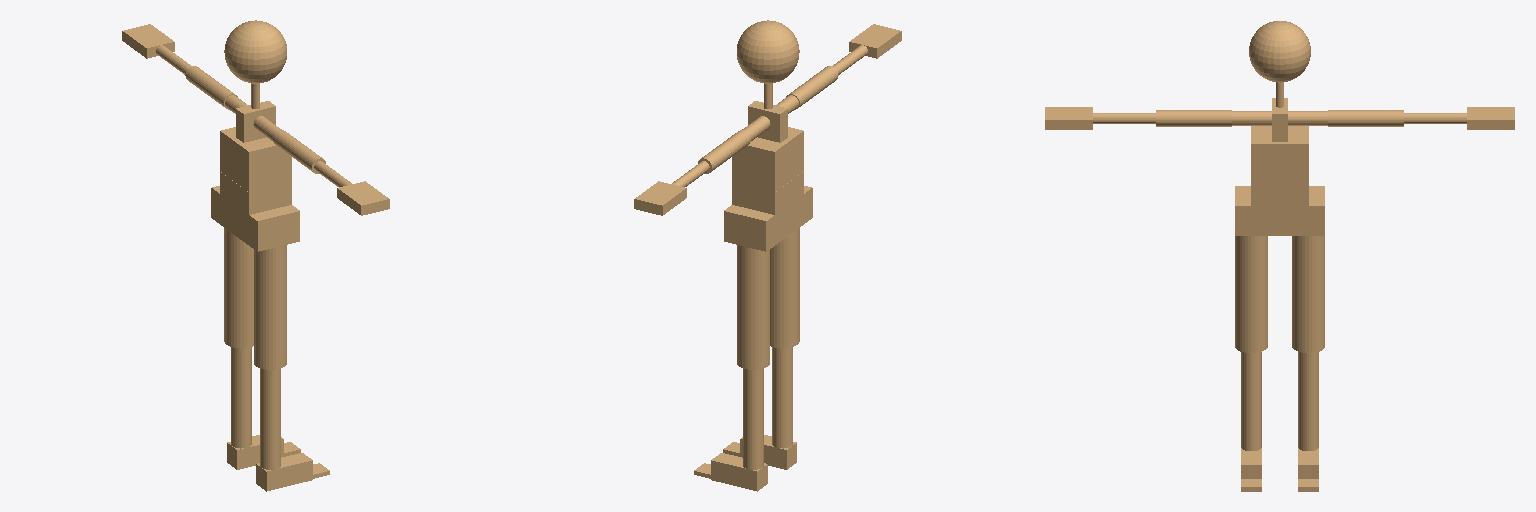
--- What the picture shows (computed from the rendered views, not written in the file) ---
3 views of the same robot in one strip: view 1: azimuth 30°, elevation 25°; view 2: azimuth 150°, elevation 25°; view 3: azimuth 270°, elevation 25° (orthographic).
Robot: XSensStyleModel_template — 49 links, 48 joints (48 revolute); root link Pelvis; default pose: all joints at 0.
Links seen in each view (by area): view 1: RightUpperLeg, LeftUpperLeg, Head, Pelvis, RightLowerLeg, LeftLowerLeg, T12, L5, L3, RightFoot, RightHand, LeftHand (+4 smaller); view 2: LeftUpperLeg, RightUpperLeg, Head, Pelvis, LeftLowerLeg, RightLowerLeg, T12, L5, L3, LeftFoot, LeftHand, RightHand (+4 smaller); view 3: RightUpperLeg, LeftUpperLeg, Pelvis, Head, RightLowerLeg, LeftLowerLeg, T12, RightUpperArm, LeftUpperArm, L5, L3, RightHand (+8 smaller).
Link boxes in pixels (bbox=[...]): RightUpperLeg: bbox=[254, 245, 286, 369]; LeftUpperLeg: bbox=[224, 228, 253, 348]; Head: bbox=[224, 20, 286, 83]; Pelvis: bbox=[211, 186, 299, 251]; RightLowerLeg: bbox=[260, 369, 280, 469]; LeftLowerLeg: bbox=[231, 347, 251, 448]; T12: bbox=[220, 127, 291, 171]; L5: bbox=[220, 172, 291, 214]; L3: bbox=[220, 151, 291, 192]; RightFoot: bbox=[256, 453, 312, 491]; RightHand: bbox=[337, 181, 389, 215]; LeftHand: bbox=[122, 24, 174, 58]; LeftUpperLeg: bbox=[737, 245, 769, 369]; RightUpperLeg: bbox=[770, 228, 799, 348]; Head: bbox=[737, 20, 799, 83]; Pelvis: bbox=[724, 186, 812, 251]; LeftLowerLeg: bbox=[743, 369, 763, 469]; RightLowerLeg: bbox=[772, 347, 792, 448]; T12: bbox=[732, 127, 803, 171]; L5: bbox=[732, 172, 803, 214]; L3: bbox=[732, 151, 803, 192]; LeftFoot: bbox=[711, 453, 767, 491]; LeftHand: bbox=[634, 181, 686, 215]; RightHand: bbox=[849, 24, 901, 58]; RightUpperLeg: bbox=[1235, 236, 1267, 352]; LeftUpperLeg: bbox=[1292, 236, 1324, 352]; Pelvis: bbox=[1235, 186, 1324, 235]; Head: bbox=[1249, 21, 1310, 82]; RightLowerLeg: bbox=[1241, 352, 1261, 450]; LeftLowerLeg: bbox=[1298, 352, 1318, 450]; T12: bbox=[1251, 126, 1308, 163]; RightUpperArm: bbox=[1156, 110, 1231, 126]; LeftUpperArm: bbox=[1328, 110, 1403, 126]; L5: bbox=[1251, 184, 1308, 205]; L3: bbox=[1251, 164, 1308, 183]; RightHand: bbox=[1045, 107, 1092, 129].
Bounding box of the posed robot: 0.3344 × 1.69 × 1.77 m (x, y, z).
Geometry: primitives only (box / cylinder / sphere), no mesh files.

The robot description file, URDF, robot "XSensStyleModel_template":
<?xml version="1.0" encoding="utf-8"?>

<!--URDF MODEL 48 DoFs-->

<robot name="XSensStyleModel_template">

<material name="color">
    <color rgba="0.87 0.72 0.53 1"/>
</material>

<!--To open this model with Gazebo replace the null masses, inertias and dimensions of the 'fake links f1 and f2'-->
    <!--LINKS-->
	<!--Link base (1)-->
	<link name="Pelvis">
        <inertial>
            <mass value="6.352"/>
			<!--COM origin wrt pHipOrigin-->
            <origin xyz="0           0    0.062435" rpy="0 0 0" />
            <inertia ixx="0.064101" iyy="0.023834" izz="0.07276" ixy="0" ixz="0" iyz="0"/>
        </inertial>

        <visual>
			<!--box origin wrt pHipOrigin-->
            <origin xyz="0           0    0.062435" rpy="0 0 0" />
            <geometry>
                <box size="0.17519     0.32675     0.11973"/>
            </geometry>
            <material name="color"/>
        </visual>

        <collision>
			<!--box origin wrt pHipOrigin-->
            <origin xyz="0           0    0.062435" rpy="0 0 0" />
            <geometry>
                <box size="0.17519     0.32675     0.11973"/>
            </geometry>
        </collision>

    </link>
    <!--Chain from (2) to (7)-->
	<link name="L5_f1">
        <inertial>
            <mass value="0"/>
            <origin xyz="0 0 0" rpy="0 0 0" />
            <inertia ixx="0" iyy="0" izz="0" ixy="0" ixz="0" iyz="0"/>
        </inertial>
    </link>
	<link name="L5">
        <inertial>
            <mass value="8.0988"/>
			<!--COM origin wrt jL5S1-->
            <origin xyz="0           0    0.043965" rpy="0 0 0" />
            <inertia ixx="0.034135" iyy="0.025932" izz="0.049631" ixy="0" ixz="0" iyz="0"/>
        </inertial>

        <visual>
			<!--box origin origin wrt jL5S1-->
            <origin xyz="0           0    0.043965" rpy="0 0 0" />
            <geometry>
                <box size="0.17519     0.20699     0.08793"/>
            </geometry>
            <material name="color"/>
        </visual>

        <collision>
			<!--box origin origin wrt jL5S1-->
            <origin xyz="0           0    0.043965" rpy="0 0 0" />
            <geometry>
                <box size="0.17519     0.20699     0.08793"/>
            </geometry>
        </collision>
    </link>
	<link name="L3_f1">
        <inertial>
            <mass value="0"/>
            <origin xyz="0 0 0" rpy="0 0 0" />
            <inertia ixx="0" iyy="0" izz="0" ixy="0" ixz="0" iyz="0"/>
        </inertial>
    </link>
	<link name="L3">
        <inertial>
            <mass value="8.0988"/>
			<!--COM origin wrt jL4L3-->
            <origin xyz="0           0    0.039709" rpy="0 0 0" />
            <inertia ixx="0.033174" iyy="0.024971" izz="0.049631" ixy="0" ixz="0" iyz="0"/>
        </inertial>

        <visual>
			<!--box origin origin wrt jL4L3-->
            <origin xyz="0           0    0.039709" rpy="0 0 0" />
            <geometry>
                <box size="0.17519     0.20699    0.079417"/>
            </geometry>
            <material name="color"/>
        </visual>

        <collision>
			<!--box origin origin wrt jL4L3-->
            <origin xyz="0           0    0.039709" rpy="0 0 0" />
            <geometry>
                <box size="0.17519     0.20699    0.079417"/>
            </geometry>
        </collision>
    </link>
	<link name="T12_f1">
        <inertial>
            <mass value="0"/>
            <origin xyz="0 0 0" rpy="0 0 0" />
            <inertia ixx="0" iyy="0" izz="0" ixy="0" ixz="0" iyz="0"/>
        </inertial>
    </link>
	<link name="T12">
        <inertial>
            <mass value="8.0988"/>
			<!--COM origin wrt jL1T12-->
            <origin xyz="0           0    0.039709" rpy="0 0 0" />
            <inertia ixx="0.033174" iyy="0.024971" izz="0.049631" ixy="0" ixz="0" iyz="0"/>
        </inertial>

        <visual>
			<!--box origin origin wrt jL1T12-->
            <origin xyz="0           0    0.039709" rpy="0 0 0" />
            <geometry>
                <box size="0.17519     0.20699    0.079417"/>
            </geometry>
            <material name="color"/>
        </visual>

        <collision>
			<!--box origin origin wrt jL1T12-->
            <origin xyz="0           0    0.039709" rpy="0 0 0" />
            <geometry>
                <box size="0.17519     0.20699    0.079417"/>
            </geometry>
        </collision>
    </link>
	<link name="T8_f1">
        <inertial>
            <mass value="0"/>
            <origin xyz="0 0 0" rpy="0 0 0" />
            <inertia ixx="0" iyy="0" izz="0" ixy="0" ixz="0" iyz="0"/>
        </inertial>
    </link>
	<link name="T8_f2">
        <inertial>
            <mass value="0"/>
            <origin xyz="0 0 0" rpy="0 0 0" />
            <inertia ixx="0" iyy="0" izz="0" ixy="0" ixz="0" iyz="0"/>
        </inertial>
    </link>
	<link name="T8">
        <inertial>
            <mass value="3.176"/>
			<!--COM origin wrt jT9T8-->
            <origin xyz="0           0    0.056134" rpy="0 0 0" />
            <inertia ixx="0.0041415" iyy="0.0080363" izz="0.0055061" ixy="0" ixz="0" iyz="0"/>
        </inertial>

        <visual>
			<!--box origin wrt jT9T8-->
            <origin xyz="0           0    0.056134" rpy="0 0 0" />
            <geometry>
                <box size="0.13327    0.055172     0.11227"/>
            </geometry>
            <material name="color"/>
        </visual>

        <collision>
			<!--box origin wrt jT9T8-->
            <origin xyz="0           0    0.056134" rpy="0 0 0" />
            <geometry>
                <box size="0.13327    0.055172     0.11227"/>
            </geometry>
        </collision>

    </link>
	<link name="Neck_f1">
        <inertial>
            <mass value="0"/>
            <origin xyz="0 0 0" rpy="0 0 0" />
            <inertia ixx="0" iyy="0" izz="0" ixy="0" ixz="0" iyz="0"/>
        </inertial>
    </link>
	<link name="Neck_f2">
        <inertial>
            <mass value="0"/>
            <origin xyz="0 0 0" rpy="0 0 0" />
            <inertia ixx="0" iyy="0" izz="0" ixy="0" ixz="0" iyz="0"/>
        </inertial>
    </link>
	<link name="Neck">
        <inertial>
            <mass value="0.9528"/>
			<!--COM origin wrt jT1C7-->
            <origin xyz="0           0    0.052133" rpy="0 0 0" />
            <inertia ixx="0.0011087" iyy="0.0011087" izz="0.00049098" ixy="0" ixz="0" iyz="0"/>
        </inertial>

        <visual>
			<!--box origin wrt jT1C7-->
            <origin xyz="0           0    0.052133" rpy="0 0 0" />
            <geometry>
		<cylinder length="0.10427" radius="0.016051"/>
            </geometry>
            <material name="color"/>
        </visual>

        <collision>
			<!--box origin wrt jT1C7-->
            <origin xyz="0           0    0.052133" rpy="0 0 0" />
            <geometry>
                <cylinder length="0.10427" radius="0.016051"/>
            </geometry>
        </collision>
    </link>
	<link name="Head_f1">
        <inertial>
            <mass value="0"/>
            <origin xyz="0 0 0" rpy="0 0 0" />
            <inertia ixx="0" iyy="0" izz="0" ixy="0" ixz="0" iyz="0"/>
        </inertial>
    </link>
	<link name="Head">
        <inertial>
            <mass value="0.8584"/>
			<!--COM origin wrt jC1Head-->
            <origin xyz="0           0     0.11223" rpy="0 0 0" />
            <inertia ixx="0.0144" iyy="0.0144" izz="0.0144" ixy="0" ixz="0" iyz="0"/>
        </inertial>

        <visual>
			<!--boc origin wrt jC1Head-->
            <origin xyz="0           0     0.11223" rpy="0 0 0" />
            <geometry>
                <sphere radius="0.11223"/>
            </geometry>
            <material name="color"/>
        </visual>

        <collision>
			<!--box origin wrt jC1Head-->
            <origin xyz="0           0     0.11223" rpy="0 0 0" />
            <geometry>
                <sphere radius="0.11223"/>
            </geometry>
        </collision>

    </link>
	<!--Chain from (8) to (11)-->
	<link name="RightShoulder">
        <inertial>
            <mass value="2.4614"/>
			<!--COM origin wrt jRightC7Shoulder-->
            <origin xyz="0   -0.073328           0" rpy="0 0 0" />
            <inertia ixx="0.0048377" iyy="0.0008521" izz="0.0048377" ixy="0" ixz="0" iyz="0"/>
        </inertial>

        <visual>
			<!--box origin wrt jRightC7Shoulder. RPY rotated of pi/2.-->
            <origin xyz="0   -0.073328           0" rpy="1.5708 0 0" />
            <geometry>
                <cylinder length="0.14666" radius="0.026313"/>
            </geometry>
            <material name="color"/>
        </visual>

        <collision>
			<!--box origin wrt jRightC7Shoulder. RPY rotated of pi/2.-->
            <origin xyz="0   -0.073328           0" rpy="1.5708 0 0" />
            <geometry>
                <cylinder length="0.14666" radius="0.026313"/>
            </geometry>
        </collision>

    </link>
	<link name="RightUpperArm_f1">
        <inertial>
            <mass value="0"/>
            <origin xyz="0 0 0" rpy="0 0 0" />
            <inertia ixx="0" iyy="0" izz="0" ixy="0" ixz="0" iyz="0"/>
        </inertial>
    </link>
	<link name="RightUpperArm_f2">
        <inertial>
            <mass value="0"/>
            <origin xyz="0 0 0" rpy="0 0 0" />
            <inertia ixx="0" iyy="0" izz="0" ixy="0" ixz="0" iyz="0"/>
        </inertial>
    </link>
    <link name="RightUpperArm">
        <inertial>
            <mass value="2.382"/>
			<!--COM origin wrt jRightShoulder-->
            <origin xyz="0     -0.1369           0" rpy="0 0 0" />
            <inertia ixx="0.015417" iyy="0.0010729" izz="0.015417" ixy="0" ixz="0" iyz="0"/>
        </inertial>

        <visual>
			<!--box origin wrt jRightShoulder. RPY rotated of pi/2.-->
            <origin xyz="0     -0.1369           0" rpy="1.5708 0 0" />
            <geometry>
                <cylinder length="0.27379" radius="0.0300014"/>
            </geometry>
            <material name="color"/>
        </visual>

        <collision>
			<!--box origin wrt jRightShoulder. RPY rotated of pi/2.-->
            <origin xyz="0     -0.1369           0" rpy="1.5708 0 0" />
            <geometry>
                <cylinder length="0.27379" radius="0.02014"/>
            </geometry>
        </collision>

    </link>
	<link name="RightForeArm_f1">
    <contact>
      <lateral_friction value="0.0"/>
      <rolling_friction value="0.0"/>
   </contact>

        <inertial>
            <mass value="0"/>
            <origin xyz="0 0 0" rpy="0 0 0" />
            <inertia ixx="0" iyy="0" izz="0" ixy="0" ixz="0" iyz="0"/>
        </inertial>
        <collision>
      <!--box origin wrt jRightElbow. RPY rotated of pi/2.-->
            <geometry>
                <sphere radius="0.023"/>
            </geometry>
        </collision>
    </link>
	<link name="RightForeArm">
        <inertial>
            <mass value="1.588"/>
			<!--COM origin wrt jRightElbow-->
            <origin xyz="0    -0.11359           0" rpy="0 0 0" />
            <inertia ixx="0.0069888" iyy="0.0003179" izz="0.0069888" ixy="0" ixz="0" iyz="0"/>
        </inertial>

        <visual>
			<!--box origin wrt jRightElbow. RPY rotated of pi/2.-->
            <origin xyz="0    -0.11359           0" rpy="1.5708 0 0" />
            <geometry>
                <cylinder length="0.22718" radius="0.020009"/>
            </geometry>
            <material name="color"/>
        </visual>

        <collision>
			<!--box origin wrt jRightElbow. RPY rotated of pi/2.-->
            <origin xyz="0    -0.11359           0" rpy="1.5708 0 0" />
            <geometry>
                <cylinder length="0.22718" radius="0.020009"/>
            </geometry>
        </collision>

    </link>
	<link name="RightHand_f1">
        <inertial>
            <mass value="0"/>
            <origin xyz="0 0 0" rpy="0 0 0" />
            <inertia ixx="0" iyy="0" izz="0" ixy="0" ixz="0" iyz="0"/>
        </inertial>
    </link>
	<link name="RightHand">
        <inertial>
            <mass value="0.4764"/>
			<!--COM origin wrt jRightWrist-->
            <origin xyz="0   -0.086009           0" rpy="0 0 0" />
            <inertia ixx="0.0012383" iyy="0.00058568" izz="0.0016968" ixy="0" ixz="0" iyz="0"/>
        </inertial>

        <visual>
			<!--box origin wrt jRightWrist-->
            <origin xyz="0   -0.086009           0" rpy="0 0 0" />
            <geometry>
                <box size="0.11468     0.17202    0.040019"/>
            </geometry>
            <material name="color"/>
        </visual>

        <collision>
			<!--box origin wrt jRightWrist-->
            <origin xyz="0   -0.086009           0" rpy="0 0 0" />
            <geometry>
                <box size="0.11468     0.17202    0.040019"/>
            </geometry>
        </collision>

    </link>

	<!--Chain from (12) to (15)-->
	<link name="LeftShoulder">
        <inertial>
            <mass value="2.4614"/>
			<!--COM origin wrt jLeftC7Shoulder-->
            <origin xyz="0    0.073328           0" rpy="0 0 0" />
            <inertia ixx="0.0048377" iyy="0.0008521" izz="0.0048377" ixy="0" ixz="0" iyz="0"/>
        </inertial>

        <visual>
			<!--box origin wrt jLeftC7Shoulder. RPY rotated of pi/2.-->
            <origin xyz="0    0.073328           0" rpy="1.5708 0 0" />
            <geometry>
                <cylinder length="0.14666" radius="0.026313"/>
            </geometry>
            <material name="color"/>
        </visual>

        <collision>
			<!--box origin wrt jLeftC7Shoulder. RPY rotated of pi/2.-->
            <origin xyz="0    0.073328           0" rpy="1.5708 0 0" />
            <geometry>
                <cylinder length="0.14666" radius="0.026313"/>
            </geometry>
        </collision>

    </link>
	<link name="LeftUpperArm_f1">
        <inertial>
            <mass value="0"/>
            <origin xyz="0 0 0" rpy="0 0 0" />
            <inertia ixx="0" iyy="0" izz="0" ixy="0" ixz="0" iyz="0"/>
        </inertial>
    </link>
	<link name="LeftUpperArm_f2">
        <inertial>
            <mass value="0"/>
            <origin xyz="0 0 0" rpy="0 0 0" />
            <inertia ixx="0" iyy="0" izz="0" ixy="0" ixz="0" iyz="0"/>
        </inertial>
    </link>
	<link name="LeftUpperArm">
        <inertial>
            <mass value="2.382"/>
			<!--COM origin wrt jLeftShoulder-->
            <origin xyz="0      0.1369           0" rpy="0 0 0" />
            <inertia ixx="0.015417" iyy="0.0010729" izz="0.015417" ixy="0" ixz="0" iyz="0"/>
        </inertial>

        <visual>
			<!--box origin wrt jLeftShoulder. RPY rotated of pi/2.-->
            <origin xyz="0      0.1369           0" rpy="1.5708 0 0" />
            <geometry>
                <cylinder length="0.27379" radius="0.030014"/>
            </geometry>
            <material name="color"/>
        </visual>

        <collision>
			<!--box origin wrt jLeftShoulder. RPY rotated of pi/2.-->
            <origin xyz="0      0.1369           0" rpy="1.5708 0 0" />
            <geometry>
                <cylinder length="0.27379" radius="0.030014"/>
            </geometry>
        </collision>

    </link>
	<link name="LeftForeArm_f1">
        <inertial>
            <mass value="0"/>
            <origin xyz="0 0 0" rpy="0 0 0" />
            <inertia ixx="0" iyy="0" izz="0" ixy="0" ixz="0" iyz="0"/>
        </inertial>
    </link>
	<link name="LeftForeArm">
        <inertial>
            <mass value="1.588"/>
			<!--COM origin wrt jLeftElbow-->
            <origin xyz="0     0.11359           0" rpy="0 0 0" />
            <inertia ixx="0.0069888" iyy="0.0003179" izz="0.0069888" ixy="0" ixz="0" iyz="0"/>
        </inertial>

        <visual>
			<!--box origin wrt jLeftElbow. RPY rotated of pi/2.-->
            <origin xyz="0     0.11359           0" rpy="1.5708 0 0" />
            <geometry>
                <cylinder length="0.22718" radius="0.020009"/>
            </geometry>
            <material name="color"/>
        </visual>

        <collision>
			<!--box origin wrt jLeftElbow. RPY rotated of pi/2.-->
            <origin xyz="0     0.11359           0" rpy="1.5708 0 0" />
            <geometry>
                <cylinder length="0.22718" radius="0.020009"/>
            </geometry>
        </collision>

    </link>
	<link name="LeftHand_f1">
        <inertial>
            <mass value="0"/>
            <origin xyz="0 0 0" rpy="0 0 0" />
            <inertia ixx="0" iyy="0" izz="0" ixy="0" ixz="0" iyz="0"/>
        </inertial>
    </link>
	<link name="LeftHand">
        <inertial>
            <mass value="0.4764"/>
			<!--COM origin wrt jLeftWrist-->
            <origin xyz="0    0.086009           0" rpy="0 0 0" />
            <inertia ixx="0.0012383" iyy="0.00058568" izz="0.0016968" ixy="0" ixz="0" iyz="0"/>
        </inertial>

        <visual>
			<!--COM origin wrt jLeftWrist-->
            <origin xyz="0    0.086009           0" rpy="0 0 0" />
            <geometry>
                <box size="0.11468     0.17202    0.040019"/>
            </geometry>
            <material name="color"/>
        </visual>

        <collision>
			<!--COM origin wrt jLeftWrist-->
            <origin xyz="0    0.086009           0" rpy="0 0 0" />
            <geometry>
                <box size="0.11468     0.17202    0.040019"/>
            </geometry>
        </collision>

    </link>
	<!--Chain from (16) to (19)-->
	<link name="RightUpperLeg_f1">
        <inertial>
            <mass value="0"/>
            <origin xyz="0 0 0" rpy="0 0 0" />
            <inertia ixx="0" iyy="0" izz="0" ixy="0" ixz="0" iyz="0"/>
        </inertial>
    </link>
	<link name="RightUpperLeg_f2">
        <inertial>
            <mass value="0"/>
            <origin xyz="0 0 0" rpy="0 0 0" />
            <inertia ixx="0" iyy="0" izz="0" ixy="0" ixz="0" iyz="0"/>
        </inertial>
    </link>
    <link name="RightUpperLeg">
        <inertial>
            <mass value="9.925"/>
			<!--COM origin wrt jRightHip-->
            <origin xyz="0           0    -0.23901" rpy="0 0 0" />
            <inertia ixx="0.19802" iyy="0.19802" izz="0.018047" ixy="0" ixz="0" iyz="0"/>
        </inertial>

        <visual>
			<!--box origin wrt jRightHip-->
            <origin xyz="0           0    -0.23901" rpy="0 0 0" />
            <geometry>
                <cylinder length="0.47802" radius="0.060305"/>
            </geometry>
            <material name="color"/>
        </visual>

        <collision>
			<!--box origin wrt jRightHip-->
            <origin xyz="0           0    -0.23901" rpy="0 0 0" />
            <geometry>
                <cylinder length="0.47802" radius="0.060305"/>
            </geometry>
        </collision>

    </link>
	<link name="RightLowerLeg_f1">
        <inertial>
            <mass value="0"/>
            <origin xyz="0 0 0" rpy="0 0 0" />
            <inertia ixx="0" iyy="0" izz="0" ixy="0" ixz="0" iyz="0"/>
        </inertial>
    </link>
    <link name="RightLowerLeg">
        <inertial>
            <mass value="2.8981"/>
			<!--COM origin wrt jRightKnee-->
            <origin xyz="0           0    -0.20089" rpy="0 0 0" />
            <inertia ixx="0.039987" iyy="0.039987" izz="0.0019991" ixy="0" ixz="0" iyz="0"/>
        </inertial>

        <visual>
			<!--box origin wrt jRightKnee-->
            <origin xyz="0           0    -0.20089" rpy="0 0 0" />
            <geometry>
                <cylinder length="0.40179" radius="0.037143"/>
            </geometry>
            <material name="color"/>
        </visual>

        <collision>
			<!--box origin wrt jRightKnee-->
            <origin xyz="0           0    -0.20089" rpy="0 0 0" />
            <geometry>
                <cylinder length="0.40179" radius="0.037143"/>
            </geometry>
        </collision>

    </link>
	<link name="RightFoot_f1">
        <inertial>
            <mass value="0"/>
            <origin xyz="0 0 0" rpy="0 0 0" />
            <inertia ixx="0" iyy="0" izz="0" ixy="0" ixz="0" iyz="0"/>
        </inertial>
    </link>
	<link name="RightFoot_f2">
        <inertial>
            <mass value="0"/>
            <origin xyz="0 0 0" rpy="0 0 0" />
            <inertia ixx="0" iyy="0" izz="0" ixy="0" ixz="0" iyz="0"/>
        </inertial>
    </link>
    <link name="RightFoot">
        <inertial>
            <mass value="1.0322"/>
			<!--COM origin wrt jRightAnkle-->
            <origin xyz="0.057127           0   -0.039048" rpy="0 0 0" />
            <inertia ixx="0.0009993" iyy="0.0036296" izz="0.0035796" ixy="0" ixz="0" iyz="0"/>
        </inertial>

        <visual>
			<!--box origin wrt jRightAnkle-->
	    	<origin xyz="0.057127           0   -0.039048" rpy="0 0 0" />
            <geometry>
                <box size="0.18999    0.074286    0.078097"/>
            </geometry>
            <material name="color"/>
        </visual>

        <collision>
			<!--box origin wrt jRightAnkle-->
		    <origin xyz="0.057127           0   -0.039048" rpy="0 0 0" />
	            <geometry>
	                <box size="0.18999    0.074286    0.078097"/>
	            </geometry>
        </collision>

    </link>
    <link name="RightToe">
        <inertial>
            <mass value="0.1191"/>
			<!--COM origin wrt jRightBallFoot-->
            <origin xyz="0.035003           0           0" rpy="0 0 0" />
            <inertia ixx="5.7319e-05" iyy="5.119e-05" izz="0.00010341" ixy="0" ixz="0" iyz="0"/>
        </inertial>

        <visual>
			<!--box origin wrt jRightBallFoot-->
            <origin xyz="0.035003           0           0" rpy="0 0 0" />
            <geometry>
                <box size="0.070006    0.074286    0.016026"/>
            </geometry>
            <material name="color"/>
        </visual>

        <collision>
			<!--box origin wrt jRightBallFoot-->
            <origin xyz="0.035003           0           0" rpy="0 0 0" />
            <geometry>
                <box size="0.070006    0.074286    0.016026"/>
            </geometry>
        </collision>
    </link>
	<!--Chain from (20) to (23)-->
	<link name="LeftUpperLeg_f1">
        <inertial>
            <mass value="0"/>
            <origin xyz="0 0 0" rpy="0 0 0" />
            <inertia ixx="0" iyy="0" izz="0" ixy="0" ixz="0" iyz="0"/>
        </inertial>
    </link>
	<link name="LeftUpperLeg_f2">
        <inertial>
            <mass value="0"/>
            <origin xyz="0 0 0" rpy="0 0 0" />
            <inertia ixx="0" iyy="0" izz="0" ixy="0" ixz="0" iyz="0"/>
        </inertial>
    </link>
    <link name="LeftUpperLeg">
        <inertial>
            <mass value="9.925"/>
			<!--COM origin wrt jLeftHip-->
            <origin xyz="0           0    -0.23901" rpy="0 0 0" />
            <inertia ixx="0.19802" iyy="0.19802" izz="0.018047" ixy="0" ixz="0" iyz="0"/>
        </inertial>

        <visual>
			<!--box origin wrt jLeftHip-->
            <origin xyz="0           0    -0.23901" rpy="0 0 0" />
            <geometry>
                <cylinder length="0.47802" radius="0.060305"/>
            </geometry>
            <material name="color"/>
        </visual>

        <collision>
			<!--box origin wrt jLeftHip-->
            <origin xyz="0           0    -0.23901" rpy="0 0 0" />
            <geometry>
                <cylinder length="0.47802" radius="0.060305"/>
            </geometry>
        </collision>

    </link>
	<link name="LeftLowerLeg_f1">
        <inertial>
            <mass value="0"/>
            <origin xyz="0 0 0" rpy="0 0 0" />
            <inertia ixx="0" iyy="0" izz="0" ixy="0" ixz="0" iyz="0"/>
        </inertial>
    </link>
	<link name="LeftLowerLeg">
        <inertial>
            <mass value="2.8981"/>
			<!--COM origin wrt jLeftKnee-->
            <origin xyz="0           0    -0.20089" rpy="0 0 0" />
            <inertia ixx="0.039987" iyy="0.039987" izz="0.0019991" ixy="0" ixz="0" iyz="0"/>
        </inertial>

        <visual>
			<!--box origin wrt jLeftKnee-->
            <origin xyz="0           0    -0.20089" rpy="0 0 0" />
            <geometry>
		<cylinder length="0.40179" radius="0.037143"/>
            </geometry>
            <material name="color"/>
        </visual>

        <collision>
			<!--box origin wrt jLeftKnee-->
            <origin xyz="0           0    -0.20089" rpy="0 0 0" />
            <geometry>
		<cylinder length="0.40179" radius="0.037143"/>
            </geometry>
        </collision>

    </link>
	<link name="LeftFoot_f1">
        <inertial>
            <mass value="0"/>
            <origin xyz="0 0 0" rpy="0 0 0" />
            <inertia ixx="0" iyy="0" izz="0" ixy="0" ixz="0" iyz="0"/>
        </inertial>
    </link>
	<link name="LeftFoot_f2">
        <inertial>
            <mass value="0"/>
            <origin xyz="0 0 0" rpy="0 0 0" />
            <inertia ixx="0" iyy="0" izz="0" ixy="0" ixz="0" iyz="0"/>
        </inertial>
    </link>
    <link name="LeftFoot">
        <inertial>
            <mass value="1.0322"/>
			<!--COM origin wrt jLeftAnkle-->
            <origin xyz="0.057127           0   -0.039048" rpy="0 0 0" />
            <inertia ixx="0.0009993" iyy="0.0036296" izz="0.0035796" ixy="0" ixz="0" iyz="0"/>
        </inertial>

        <visual>
			<!--box origin wrt jLeftAnkle-->
	   	 	<origin xyz="0.057127           0   -0.039048" rpy="0 0 0" />
            <geometry>
                <box size="0.18999    0.074286    0.078097"/>
            </geometry>
            <material name="color"/>
        </visual>

        <collision>
			<!--box origin wrt jLeftAnkle-->
		    <origin xyz="0.057127           0   -0.039048" rpy="0 0 0" />
	            <geometry>
	                <box size="0.18999    0.074286    0.078097"/>
	            </geometry>
        </collision>

    </link>
	<link name="LeftToe">
        <inertial>
            <mass value="0.1191"/>
			<!--COM origin wrt jLeftBallFoot-->
            <origin xyz="0.035003           0           0" rpy="0 0 0" />
            <inertia ixx="5.7319e-05" iyy="5.119e-05" izz="0.00010341" ixy="0" ixz="0" iyz="0"/>
        </inertial>

        <visual>
			<!--box origin wrt jLeftBallFoot-->
            <origin xyz="0.035003           0           0" rpy="0 0 0" />
            <geometry>
                <box size="0.070006    0.074286    0.016026"/>
            </geometry>
            <material name="color"/>
        </visual>

        <collision>
			<!--box origin wrt jLeftBallFoot-->
            <origin xyz="0.035003           0           0" rpy="0 0 0" />
            <geometry>
                <box size="0.070006    0.074286    0.016026"/>
            </geometry>
        </collision>
    </link>


	<!--JOINTS-->
	<!--Chain from (2) to (7)-->
	<joint name="jL5S1_rotx" type="revolute">
        <origin xyz="-0.000525           0      0.1223" rpy="0 0 0"/>
        <parent link="Pelvis"/>
        <child link="L5_f1"/>
        <dynamics damping="0.5" friction="1.0"/>
        <limit effort="500" velocity="1.0" lower="-0.610865" upper="0.610865" />
        <axis xyz="1 0 0" />
    </joint>
	<joint name="jL5S1_roty" type="revolute">
        <origin xyz="0 0 0" rpy="0 0 0"/>
        <parent link="L5_f1"/>
        <child link="L5"/>
        <dynamics damping="0.1" friction="0.0"/>
        <limit effort="500" velocity="1.0" lower="-0.523599" upper="1.309" />
        <axis xyz="0 1 0" />
    </joint>
	<joint name="jL4L3_rotx" type="revolute">
        <origin xyz="0.000953           0     0.08793" rpy="0 0 0"/>
        <parent link="L5"/>
        <child link="L3_f1"/>
        <dynamics damping="0.5" friction="1.0"/>
        <limit effort="500" velocity="1.0" lower="-0.610865" upper="0.610865" />
        <axis xyz="1 0 0" />
    </joint>
	<joint name="jL4L3_roty" type="revolute">
        <origin xyz="0 0 0" rpy="0 0 0"/>
        <parent link="L3_f1"/>
        <child link="L3"/>
        <dynamics damping="0.5" friction="1.0"/>
        <limit effort="500" velocity="1.0" lower="-0.523599" upper="1.309" />
        <axis xyz="0 1 0" />
    </joint>
	<joint name="jL1T12_rotx" type="revolute">
        <origin xyz="0           0    0.079417" rpy="0 0 0"/>
        <parent link="L3"/>
        <child link="T12_f1"/>
        <dynamics damping="0.5" friction="1.0"/>
        <limit effort="500" velocity="1.0" lower="-0.610865" upper="0.610865" />
        <axis xyz="1 0 0" />
    </joint>
	<joint name="jL1T12_roty" type="revolute">
        <origin xyz="0 0 0" rpy="0 0 0"/>
        <parent link="T12_f1"/>
        <child link="T12"/>
        <dynamics damping="0.5" friction="1.0"/>
        <limit effort="500" velocity="1.0" lower="-0.523599" upper="1.309" />
        <axis xyz="0 1 0" />
    </joint>
	<joint name="jT9T8_rotx" type="revolute">
        <origin xyz="0           0    0.079417" rpy="0 0 0"/>
        <parent link="T12"/>
        <child link="T8_f1"/>
        <dynamics damping="0.1" friction="0.0"/>
        <limit effort="500" velocity="1.0" lower="-0.349066" upper="0.349066" />
        <axis xyz="1 0 0" />
    </joint>
	<joint name="jT9T8_roty" type="revolute">
        <origin xyz="0 0 0" rpy="0 0 0"/>
        <parent link="T8_f1"/>
        <child link="T8_f2"/>
        <dynamics damping="0.5" friction="1.0"/>
        <limit effort="500" velocity="1.0" lower="-0.261799" upper="0.698132" />
        <axis xyz="0 1 0" />
    </joint>
    <joint name="jT9T8_rotz" type="revolute">
        <origin xyz="0 0 0" rpy="0 0 0"/>
        <parent link="T8_f2"/>
        <child link="T8"/>
        <dynamics damping="0.1" friction="0.0"/>
        <limit effort="500" velocity="1.0" lower="-0.610865" upper="0.610865" />
        <axis xyz="0 0 1" />
    </joint>
	<joint name="jT1C7_rotx" type="revolute">
        <origin xyz="0           0     0.11227" rpy="0 0 0"/>
        <parent link="T8"/>
        <child link="Neck_f1"/>
        <dynamics damping="0.5" friction="1.0"/>
        <limit effort="30" velocity="1.0" lower="-0.610865" upper="0.610865" />
        <axis xyz="1 0 0" />
    </joint>
	<joint name="jT1C7_roty" type="revolute">
        <origin xyz="0 0 0" rpy="0 0 0"/>
        <parent link="Neck_f1"/>
        <child link="Neck_f2"/>
        <dynamics damping="0.1" friction="0.0"/>
        <limit effort="500" velocity="1.0" lower="-0.959931" upper="1.5708" />
        <axis xyz="0 1 0" />
    </joint>
    <joint name="jT1C7_rotz" type="revolute">
        <origin xyz="0 0 0" rpy="0 0 0"/>
        <parent link="Neck_f2"/>
        <child link="Neck"/>
        <dynamics damping="0.5" friction="1.0"/>
        <limit effort="500" velocity="1.0" lower="-1.22173" upper="1.22173" />
        <axis xyz="0 0 1" />
    </joint>
	<joint name="jC1Head_rotx" type="revolute">
        <origin xyz="-0.000154           0     0.10427" rpy="0 0 0"/>
        <parent link="Neck"/>
        <child link="Head_f1"/>
        <dynamics damping="0.5" friction="1.0"/>
        <limit effort="500" velocity="1.0" lower="-0.610865" upper="0.610865" />
        <axis xyz="1 0 0" />
    </joint>
	<joint name="jC1Head_roty" type="revolute">
        <origin xyz="0 0 0" rpy="0 0 0"/>
        <parent link="Head_f1"/>
        <child link="Head"/>
        <dynamics damping="0.5" friction="1.0"/>
        <limit effort="500" velocity="1.0" lower="-0.436332" upper="0.174533" />
        <axis xyz="0 1 0" />
    </joint>
	<!--Chain from (8) to (11)-->
	<joint name="jRightC7Shoulder_rotx" type="revolute">
        <origin xyz="0   -0.027586    0.063241" rpy="0 0 0"/>
        <parent link="T8"/>
        <child link="RightShoulder"/>
        <dynamics damping="10.1" friction="10.0"/>
        <limit effort="30" velocity="1.0" lower="-0.785398" upper="0.0872665" />
        <axis xyz="1 0 0" />
    </joint>
	<joint name="jRightShoulder_rotx" type="revolute">
        <origin xyz="0    -0.14666           0" rpy="0 0 0"/>
        <parent link="RightShoulder"/>
        <child link="RightUpperArm_f1"/>
        <dynamics damping="10.1" friction="10.0"/>
        <limit effort="30" velocity="0.2" lower="-2.35619" upper="1.5708" />
        <axis xyz="1 0 0" />
    </joint>
	<joint name="jRightShoulder_roty" type="revolute">
        <origin xyz="0 0 0" rpy="0 0 0"/>
        <parent link="RightUpperArm_f1"/>
        <child link="RightUpperArm_f2"/>
        <dynamics damping="10.1" friction="10.0"/>
        <limit effort="30" velocity="0.2" lower="-1.5708" upper="1.5708" />
        <axis xyz="0 1 0" />

        <!-- <limit effort="30" velocity="0.2" lower="-0.785398" upper="3.14159" />
        <axis xyz="0 0 1" /> -->

    </joint>
    <joint name="jRightShoulder_rotz" type="revolute">
        <origin xyz="0 0 0" rpy="0 0 0"/>
        <parent link="RightUpperArm_f2"/>
        <child link="RightUpperArm"/>
        <dynamics damping="10.1" friction="10.0"/>
        <limit effort="30" velocity="1.0" lower="-0.785398" upper="3.14159" />
        <axis xyz="0 0 1" />

        <!-- <limit effort="30" velocity="0.2" lower="-1.5708" upper="1.5708" />
        <axis xyz="0 1 0" /> -->
    </joint>
	<joint name="jRightElbow_roty" type="revolute">
        <origin xyz="0    -0.27379           0" rpy="0 0 0"/>
        <parent link="RightUpperArm"/>
        <child link="RightForeArm_f1"/>
        <dynamics damping="10.1" friction="10.0"/>
        <limit effort="30" velocity="1.0" lower="-1.5708" upper="1.48353" />
        <axis xyz="0 1 0" />
    </joint>
	<joint name="jRightElbow_rotz" type="revolute">
        <origin xyz="0 0 0" rpy="0 0 0"/>
        <parent link="RightForeArm_f1"/>
        <child link="RightForeArm"/>
        <dynamics damping="10.1" friction="10.0"/>
        <limit effort="30" velocity="1.0" lower="0" upper="2.53073" />
        <axis xyz="0 0 1" />
    </joint>
	<joint name="jRightWrist_rotx" type="revolute">
        <origin xyz="0.000133    -0.22718           0" rpy="0 0 0"/>
        <parent link="RightForeArm"/>
        <child link="RightHand_f1"/>
        <dynamics damping="0.1" friction="10.0"/>
        <limit effort="30" velocity="1.0" lower="-0.872665" upper="1.0472" />
        <axis xyz="1 0 0" />
    </joint>
	<joint name="jRightWrist_rotz" type="revolute">
        <origin xyz="0 0 0" rpy="0 0 0"/>
        <parent link="RightHand_f1"/>
        <child link="RightHand"/>
        <dynamics damping="0.1" friction="0.0"/>
        <limit effort="30" velocity="1.0" lower="-0.523599" upper="0.349066" />
        <axis xyz="0 0 1" />
    </joint>
	<!--Chain from (12) to (15)-->
	<joint name="jLeftC7Shoulder_rotx" type="revolute">
        <origin xyz="0    0.027586    0.063241" rpy="0 0 0"/>
        <parent link="T8"/>
        <child link="LeftShoulder"/>
        <dynamics damping="0.1" friction="0.0"/>
        <limit effort="30" velocity="1.0" lower="-0.0872665" upper="0.785398" />
        <axis xyz="1 0 0" />
    </joint>
	<joint name="jLeftShoulder_rotx" type="revolute">
        <origin xyz="0     0.14666           0" rpy="0 0 0"/>
        <parent link="LeftShoulder"/>
        <child link="LeftUpperArm_f1"/>
        <dynamics damping="0.1" friction="0.0"/>
        <limit effort="30" velocity="1.0" lower="-1.5708" upper="2.35619" />
        <axis xyz="1 0 0" />
    </joint>
	<joint name="jLeftShoulder_roty" type="revolute">
        <origin xyz="0 0 0" rpy="0 0 0"/>
        <parent link="LeftUpperArm_f1"/>
        <child link="LeftUpperArm_f2"/>
        <dynamics damping="0.1" friction="0.0"/>
        <limit effort="30" velocity="1.0" lower="-1.5708" upper="1.5708" />
        <axis xyz="0 1 0" />
    </joint>
    <joint name="jLeftShoulder_rotz" type="revolute">
        <origin xyz="0 0 0" rpy="0 0 0"/>
        <parent link="LeftUpperArm_f2"/>
        <child link="LeftUpperArm"/>
        <dynamics damping="0.1" friction="0.0"/>
        <limit effort="30" velocity="1.0" lower="-3.14159" upper="0.785398" />
        <axis xyz="0 0 1" />
    </joint>
    <joint name="jLeftElbow_roty" type="revolute">
        <origin xyz="0     0.27379           0" rpy="0 0 0"/>
        <parent link="LeftUpperArm"/>
        <child link="LeftForeArm_f1"/>
        <dynamics damping="0.1" friction="0.0"/>
        <limit effort="30" velocity="1.0" lower="-1.5708" upper="1.48353" />
        <axis xyz="0 1 0" />
    </joint>
    <joint name="jLeftElbow_rotz" type="revolute">
        <origin xyz="0 0 0" rpy="0 0 0"/>
        <parent link="LeftForeArm_f1"/>
        <child link="LeftForeArm"/>
        <dynamics damping="0.1" friction="0.0"/>
        <limit effort="30" velocity="1.0" lower="-2.53073" upper="0" />
        <axis xyz="0 0 1" />
    </joint>
	<joint name="jLeftWrist_rotx" type="revolute">
        <origin xyz="0.000133     0.22718           0" rpy="0 0 0"/>
        <parent link="LeftForeArm"/>
        <child link="LeftHand_f1"/>
        <dynamics damping="0.1" friction="0.0"/>
        <limit effort="30" velocity="1.0" lower="-1.0472" upper="0.872665" />
        <axis xyz="1 0 0" />
    </joint>
	<joint name="jLeftWrist_rotz" type="revolute">
        <origin xyz="0 0 0" rpy="0 0 0"/>
        <parent link="LeftHand_f1"/>
        <child link="LeftHand"/>
        <dynamics damping="0.1" friction="0.0"/>
        <limit effort="30" velocity="1.0" lower="-0.349066" upper="0.523599" />
        <axis xyz="0 0 1" />
    </joint>
	<!--Chain from (16) to (19)-->
	<joint name="jRightHip_rotx" type="revolute">
        <origin xyz="0.000262     -0.1035    0.002571" rpy="0 0 0"/>
        <parent link="Pelvis"/>
        <child link="RightUpperLeg_f1"/>
        <dynamics damping="0.1" friction="0.0"/>
        <limit effort="30" velocity="1.0" lower="-0.785398" upper="0.523599" />
        <axis xyz="1 0 0" />
    </joint>
	<joint name="jRightHip_roty" type="revolute">
        <origin xyz="0 0 0" rpy="0 0 0"/>
        <parent link="RightUpperLeg_f1"/>
        <child link="RightUpperLeg_f2"/>
        <dynamics damping="0.1" friction="0.0"/>
        <limit effort="30" velocity="1.0" lower="-0.261799" upper="2.0944" />
        <axis xyz="0 1 0" />
    </joint>
    <joint name="jRightHip_rotz" type="revolute">
        <origin xyz="0 0 0" rpy="0 0 0"/>
        <parent link="RightUpperLeg_f2"/>
        <child link="RightUpperLeg"/>
        <dynamics damping="0.1" friction="0.0"/>
        <limit effort="30" velocity="1.0" lower="-0.785398" upper="0.785398" />
        <axis xyz="0 0 1" />
    </joint>
	<joint name="jRightKnee_roty" type="revolute">
        <origin xyz="-1.8e-05           0    -0.47802" rpy="0 0 0"/>
        <parent link="RightUpperLeg"/>
        <child link="RightLowerLeg_f1"/>
        <dynamics damping="0.1" friction="0.0"/>
        <limit effort="30" velocity="1.0" lower="0" upper="2.35619" />
        <axis xyz="0 1 0" />
    </joint>
	<joint name="jRightKnee_rotz" type="revolute">
        <origin xyz="0 0 0" rpy="0 0 0"/>
        <parent link="RightLowerLeg_f1"/>
        <child link="RightLowerLeg"/>
        <dynamics damping="0.1" friction="0.0"/>
        <limit effort="30" velocity="1.0" lower="-0.698132" upper="0.523599" />
        <axis xyz="0 0 1" />
    </joint>
	<joint name="jRightAnkle_rotx" type="revolute">
        <origin xyz="4.5e-05           0    -0.40179" rpy="0 0 0"/>
        <parent link="RightLowerLeg"/>
        <child link="RightFoot_f1"/>
        <dynamics damping="0.1" friction="0.0"/>
        <limit effort="30" velocity="1.0" lower="-0.610865" upper="0.785398" />
        <axis xyz="1 0 0" />
    </joint>
	<joint name="jRightAnkle_roty" type="revolute">
        <origin xyz="0 0 0" rpy="0 0 0"/>
        <parent link="RightFoot_f1"/>
        <child link="RightFoot_f2"/>
        <dynamics damping="0.1" friction="0.0"/>
        <limit effort="30" velocity="1.0" lower="-0.523599" upper="0.872665" />
        <axis xyz="0 1 0" />
    </joint>
    <joint name="jRightAnkle_rotz" type="revolute">
        <origin xyz="0 0 0" rpy="0 0 0"/>
        <parent link="RightFoot_f2"/>
        <child link="RightFoot"/>
        <dynamics damping="0.1" friction="0.0"/>
        <limit effort="30" velocity="1.0" lower="-0.436332" upper="0.872665" />
        <axis xyz="0 0 1" />
    </joint>
	<joint name="jRightBallFoot_roty" type="revolute">
        <origin xyz="0.15212           0   -0.065242" rpy="0 0 0"/>
        <parent link="RightFoot"/>
        <child link="RightToe"/>
        <dynamics damping="0.1" friction="0.0"/>
        <limit effort="30" velocity="1.0" lower="-0.174533" upper="1.5708" />
        <axis xyz="0 1 0" />
    </joint>
	<!--Chain from (20) to (23)-->
	<joint name="jLeftHip_rotx" type="revolute">
        <origin xyz="0.000262      0.1035    0.002571" rpy="0 0 0"/>
        <parent link="Pelvis"/>
        <child link="LeftUpperLeg_f1"/>
        <dynamics damping="0.1" friction="0.0"/>
        <limit effort="30" velocity="1.0" lower="-0.523599" upper="0.785398" />
        <axis xyz="1 0 0" />
    </joint>
	<joint name="jLeftHip_roty" type="revolute">
        <origin xyz="0 0 0" rpy="0 0 0"/>
        <parent link="LeftUpperLeg_f1"/>
        <child link="LeftUpperLeg_f2"/>
        <dynamics damping="0.1" friction="0.0"/>
        <limit effort="30" velocity="1.0" lower="-0.261799" upper="2.0944" />
        <axis xyz="0 1 0" />
    </joint>
    <joint name="jLeftHip_rotz" type="revolute">
        <origin xyz="0 0 0" rpy="0 0 0"/>
        <parent link="LeftUpperLeg_f2"/>
        <child link="LeftUpperLeg"/>
        <dynamics damping="0.1" friction="0.0"/>
        <limit effort="30" velocity="1.0" lower="-0.785398" upper="0.785398" />
        <axis xyz="0 0 1" />
    </joint>
	<joint name="jLeftKnee_roty" type="revolute">
        <origin xyz="-1.8e-05           0    -0.47802" rpy="0 0 0"/>
        <parent link="LeftUpperLeg"/>
        <child link="LeftLowerLeg_f1"/>
        <dynamics damping="0.1" friction="0.0"/>
        <limit effort="30" velocity="1.0" lower="0" upper="2.35619" />
        <axis xyz="0 1 0" />
    </joint>
    <joint name="jLeftKnee_rotz" type="revolute">
        <origin xyz="0 0 0" rpy="0 0 0"/>
        <parent link="LeftLowerLeg_f1"/>
        <child link="LeftLowerLeg"/>
        <dynamics damping="0.1" friction="0.0"/>
        <limit effort="30" velocity="1.0" lower="-0.523599" upper="0.698132" />
        <axis xyz="0 0 1" />
    </joint>
	<joint name="jLeftAnkle_rotx" type="revolute">
        <origin xyz="4.5e-05           0    -0.40179" rpy="0 0 0"/>
        <parent link="LeftLowerLeg"/>
        <child link="LeftFoot_f1"/>
        <dynamics damping="0.1" friction="0.0"/>
        <limit effort="30" velocity="1.0" lower="-0.785398" upper="0.610865" />
        <axis xyz="1 0 0" />
    </joint>
	<joint name="jLeftAnkle_roty" type="revolute">
        <origin xyz="0 0 0" rpy="0 0 0"/>
        <parent link="LeftFoot_f1"/>
        <child link="LeftFoot_f2"/>
        <dynamics damping="0.1" friction="0.0"/>
        <limit effort="30" velocity="1.0" lower="-0.523599" upper="0.872665" />
        <axis xyz="0 1 0" />
    </joint>
    <joint name="jLeftAnkle_rotz" type="revolute">
        <origin xyz="0 0 0" rpy="0 0 0"/>
        <parent link="LeftFoot_f2"/>
        <child link="LeftFoot"/>
        <dynamics damping="0.1" friction="0.0"/>
        <limit effort="30" velocity="1.0" lower="-0.872665" upper="0.436332" />
        <axis xyz="0 0 1" />
    </joint>
	<joint name="jLeftBallFoot_roty" type="revolute">
        <origin xyz="0.15212           0   -0.065242" rpy="0 0 0"/>
        <parent link="LeftFoot"/>
        <child link="LeftToe"/>
        <dynamics damping="0.1" friction="0.0"/>
        <limit effort="30" velocity="1.0" lower="-0.174533" upper="1.5708" />
        <axis xyz="0 1 0" />
    </joint>

	<!-- Sensor  1-->
<sensor name="Pelvis_gyro" type="gyroscope">
<parent link="Pelvis"/>
<origin xyz="-0.071987 -6.0202e-07     0.12307" rpy="-0.021728      1.1284     -3.1314"/>
</sensor>
<sensor name="Pelvis_accelerometer" type="accelerometer">
<parent link="Pelvis"/>
<origin xyz="-0.071987 -6.0202e-07     0.12307" rpy="-0.021728      1.1284     -3.1314"/>
</sensor>
<!-- Sensor  2-->
<sensor name="T8_gyro" type="gyroscope">
<parent link="T8"/>
<origin xyz="0.12438  4.9598e-07    0.068411" rpy="-0.098341      1.1275    -0.18079"/>
</sensor>
<sensor name="T8_accelerometer" type="accelerometer">
<parent link="T8"/>
<origin xyz="0.12438  4.9598e-07    0.068411" rpy="-0.098341      1.1275    -0.18079"/>
</sensor>
<!-- Sensor  3-->
<sensor name="Head_gyro" type="gyroscope">
<parent link="Head"/>
<origin xyz="-0.084448  2.2949e-06    0.092822" rpy="2.1005    -0.13417     -1.4634"/>
</sensor>
<sensor name="Head_accelerometer" type="accelerometer">
<parent link="Head"/>
<origin xyz="-0.084448  2.2949e-06    0.092822" rpy="2.1005    -0.13417     -1.4634"/>
</sensor>
<!-- Sensor  4-->
<sensor name="RightShoulder_gyro" type="gyroscope">
<parent link="RightShoulder"/>
<origin xyz="-0.02105   -0.052626   -0.063152" rpy="1.1394    -0.27235     -1.4218"/>
</sensor>
<sensor name="RightShoulder_accelerometer" type="accelerometer">
<parent link="RightShoulder"/>
<origin xyz="-0.02105   -0.052626   -0.063152" rpy="1.1394    -0.27235     -1.4218"/>
</sensor>
<!-- Sensor  5-->
<sensor name="RightUpperArm_gyro" type="gyroscope">
<parent link="RightUpperArm"/>
<origin xyz="-0.01847   -0.092351     0.01847" rpy="-0.055952    -0.10816     -1.5715"/>
</sensor>
<sensor name="RightUpperArm_accelerometer" type="accelerometer">
<parent link="RightUpperArm"/>
<origin xyz="-0.01847   -0.092351     0.01847" rpy="-0.055952    -0.10816     -1.5715"/>
</sensor>
<!-- Sensor  6-->
<sensor name="RightForeArm_gyro" type="gyroscope">
<parent link="RightForeArm"/>
<origin xyz="0.001726    -0.18818    0.018794" rpy="-0.60149    0.046129     -1.3658"/>
</sensor>
<sensor name="RightForeArm_accelerometer" type="accelerometer">
<parent link="RightForeArm"/>
<origin xyz="0.001726    -0.18818    0.018794" rpy="-0.60149    0.046129     -1.3658"/>
</sensor>
<!-- Sensor  7-->
<sensor name="RightHand_gyro" type="gyroscope">
<parent link="RightHand"/>
<origin xyz="1.3323e-08    -0.05268    0.019156" rpy="-0.44839    -0.14972     -1.4386"/>
</sensor>
<sensor name="RightHand_accelerometer" type="accelerometer">
<parent link="RightHand"/>
<origin xyz="1.3323e-08    -0.05268    0.019156" rpy="-0.44839    -0.14972     -1.4386"/>
</sensor>
<!-- Sensor  8-->
<sensor name="LeftShoulder_gyro" type="gyroscope">
<parent link="LeftShoulder"/>
<origin xyz="-0.02105    0.052626   -0.063152" rpy="-1.0415    -0.28459      1.3133"/>
</sensor>
<sensor name="LeftShoulder_accelerometer" type="accelerometer">
<parent link="LeftShoulder"/>
<origin xyz="-0.02105    0.052626   -0.063152" rpy="-1.0415    -0.28459      1.3133"/>
</sensor>
<!-- Sensor  9-->
<sensor name="LeftUpperArm_gyro" type="gyroscope">
<parent link="LeftUpperArm"/>
<origin xyz="-0.01847    0.092351     0.01847" rpy="-0.1577   -0.030387        1.62"/>
</sensor>
<sensor name="LeftUpperArm_accelerometer" type="accelerometer">
<parent link="LeftUpperArm"/>
<origin xyz="-0.01847    0.092351     0.01847" rpy="-0.1577   -0.030387        1.62"/>
</sensor>
<!-- Sensor  10-->
<sensor name="LeftForeArm_gyro" type="gyroscope">
<parent link="LeftForeArm"/>
<origin xyz="0.0017291     0.18818    0.018794" rpy="0.2455     0.07995      1.3985"/>
</sensor>
<sensor name="LeftForeArm_accelerometer" type="accelerometer">
<parent link="LeftForeArm"/>
<origin xyz="0.0017291     0.18818    0.018794" rpy="0.2455     0.07995      1.3985"/>
</sensor>
<!-- Sensor  11-->
<sensor name="LeftHand_gyro" type="gyroscope">
<parent link="LeftHand"/>
<origin xyz="3.0003e-07     0.05268    0.019156" rpy="0.49289   -0.074408      1.5697"/>
</sensor>
<sensor name="LeftHand_accelerometer" type="accelerometer">
<parent link="LeftHand"/>
<origin xyz="3.0003e-07     0.05268    0.019156" rpy="0.49289   -0.074408      1.5697"/>
</sensor>
<!-- Sensor  12-->
<sensor name="RightUpperLeg_gyro" type="gyroscope">
<parent link="RightUpperLeg"/>
<origin xyz="0.013845   -0.048743    -0.28798" rpy="-2.9811      1.4724      1.5206"/>
</sensor>
<sensor name="RightUpperLeg_accelerometer" type="accelerometer">
<parent link="RightUpperLeg"/>
<origin xyz="0.013845   -0.048743    -0.28798" rpy="-2.9811      1.4724      1.5206"/>
</sensor>
<!-- Sensor  13-->
<sensor name="RightLowerLeg_gyro" type="gyroscope">
<parent link="RightLowerLeg"/>
<origin xyz="0.030603   0.0070053    -0.13166" rpy="-2.8522      1.3804     -2.4268"/>
</sensor>
<sensor name="RightLowerLeg_accelerometer" type="accelerometer">
<parent link="RightLowerLeg"/>
<origin xyz="0.030603   0.0070053    -0.13166" rpy="-2.8522      1.3804     -2.4268"/>
</sensor>
<!-- Sensor  14-->
<sensor name="RightFoot_gyro" type="gyroscope">
<parent link="RightFoot"/>
<origin xyz="0.087491    0.001456   -0.012352" rpy="0.16226     0.29269    -0.49561"/>
</sensor>
<sensor name="RightFoot_accelerometer" type="accelerometer">
<parent link="RightFoot"/>
<origin xyz="0.087491    0.001456   -0.012352" rpy="0.16226     0.29269    -0.49561"/>
</sensor>
<!-- Sensor  15-->
<sensor name="LeftUpperLeg_gyro" type="gyroscope">
<parent link="LeftUpperLeg"/>
<origin xyz="0.013845    0.048745    -0.28798" rpy="2.7257      1.4229      -2.191"/>
</sensor>
<sensor name="LeftUpperLeg_accelerometer" type="accelerometer">
<parent link="LeftUpperLeg"/>
<origin xyz="0.013845    0.048745    -0.28798" rpy="2.7257      1.4229      -2.191"/>
</sensor>
<!-- Sensor  16-->
<sensor name="LeftLowerLeg_gyro" type="gyroscope">
<parent link="LeftLowerLeg"/>
<origin xyz="0.030604  -0.0070048    -0.13166" rpy="2.9693      1.4312      2.4317"/>
</sensor>
<sensor name="LeftLowerLeg_accelerometer" type="accelerometer">
<parent link="LeftLowerLeg"/>
<origin xyz="0.030604  -0.0070048    -0.13166" rpy="2.9693      1.4312      2.4317"/>
</sensor>
<!-- Sensor  17-->
<sensor name="LeftFoot_gyro" type="gyroscope">
<parent link="LeftFoot"/>
<origin xyz="0.087491   -0.001456   -0.012352" rpy="-0.12974     0.35273     0.38485"/>
</sensor>
<sensor name="LeftFoot_accelerometer" type="accelerometer">
<parent link="LeftFoot"/>
<origin xyz="0.087491   -0.001456   -0.012352" rpy="-0.12974     0.35273     0.38485"/>
</sensor>


</robot>
